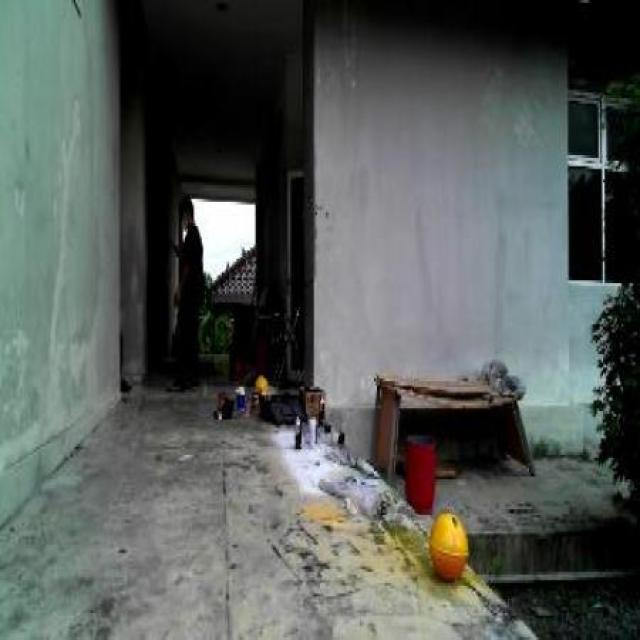buoy: (422, 497, 474, 587), (250, 370, 270, 394)
